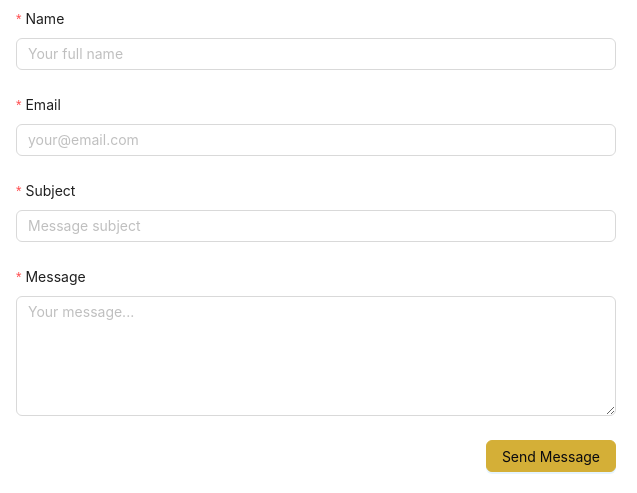
Test case: ContactForm › empty submit shows inline required errors for all four fields
Click the button "Send Message": [551, 456] box 486,440 -> 616,472
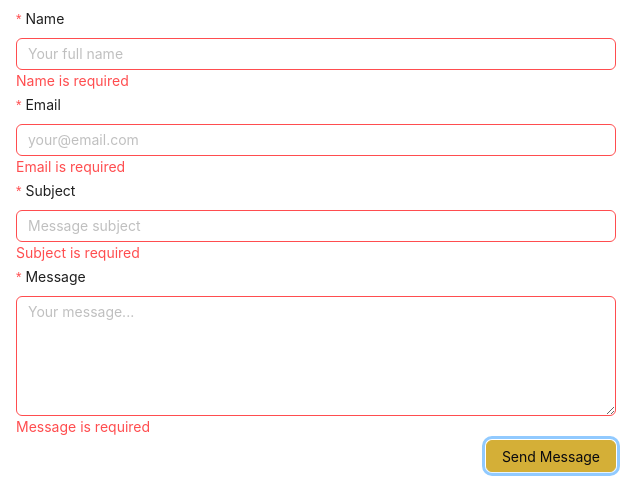
Expected: the text "Name is required" is shown, 16,72 -> 129,89
Expected: the text "Email is required" is shown, 16,158 -> 125,175
Expected: the text "Subject is required" is shown, 16,244 -> 140,261
